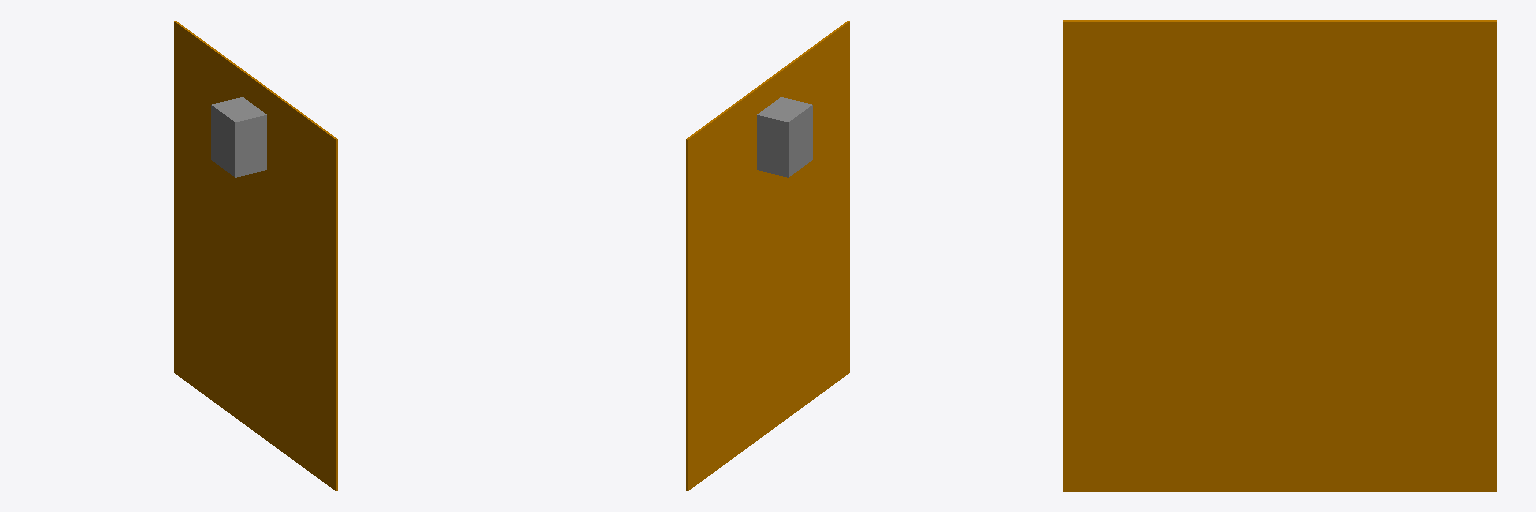
robot.urdf — DRCTestbedButton_fixed:
<?xml version="1.0"?>
<robot name="DRCTestbedButton_fixed"
       xmlns:xi="http://www.w3.org/2001/XInclude"
       >
  <gazebo>
    <static>false</static>
  </gazebo>
  <link name="DRC-TESTBED-BUTTON-BODYSET9_link">
    <visual>
      <origin xyz="0 0 0" rpy="0 -0 0"/>
      <geometry>
        <mesh filename="model://DRCTestbedButton/meshes/DRC-TESTBED-BUTTON-BODYSET9_link_mesh.dae" scale="1 1 1" />
      </geometry>
    </visual>
    <collision>
      <origin xyz="0 0 0" rpy="0 -0 0"/>
      <geometry>
        <mesh filename="model://DRCTestbedButton/meshes/DRC-TESTBED-BUTTON-BODYSET9_link_mesh.dae" scale="1 1 1" />
      </geometry>
    </collision>
    <inertial>
      <mass value="0.001" />
      <origin xyz="0 0 0" rpy="0 -0 0"/>
      <inertia ixx="1e-03" ixy="0" ixz="0" iyy="1e-03" iyz="0" izz="1e-03"/>
    </inertial>
  </link>
  <gazebo reference="DRC-TESTBED-BUTTON-BODYSET9_link">
    <mu1>0.9</mu1>
    <mu2>0.9</mu2>
  </gazebo>
  <link name="DRC-TESTBED-BUTTON-BODYSET92_link">
    <visual>
      <origin xyz="-0.13 0.1 1.33" rpy="0 -0 0"/>
      <geometry>
        <mesh filename="model://DRCTestbedButton/meshes/DRC-TESTBED-BUTTON-BODYSET92_link_mesh.dae" scale="1 1 1" />
      </geometry>
    </visual>
    <collision>
      <origin xyz="-0.13 0.1 1.33" rpy="0 -0 0"/>
      <geometry>
        <mesh filename="model://DRCTestbedButton/meshes/DRC-TESTBED-BUTTON-BODYSET92_link_mesh.dae" scale="1 1 1" />
      </geometry>
    </collision>
    <inertial>
      <mass value="0.001" />
      <origin xyz="0 0 0" rpy="0 -0 0"/>
      <inertia ixx="1e-03" ixy="0" ixz="0" iyy="1e-03" iyz="0" izz="1e-03"/>
    </inertial>
  </link>
  <gazebo reference="DRC-TESTBED-BUTTON-BODYSET92_link">
    <mu1>0.9</mu1>
    <mu2>0.9</mu2>
  </gazebo>
  <joint name="HINGE-JOINT" type="revolute">
    <parent link="DRC-TESTBED-BUTTON-BODYSET9_link"/>
    <child  link="DRC-TESTBED-BUTTON-BODYSET92_link"/>
    <origin xyz="-0.13 0.1 1.33" rpy="0 -0 0 "/>
    <axis   xyz="0 0 1"/>
    <limit lower="-1.5708" upper="1.5708" effort="100" velocity="0.5" />
    <dynamics damping="0.2" friction="0" />
  </joint>
  <transmission type="pr2_mechanism_model/SimpleTransmission" name="HINGE-JOINT_trans" >
    <actuator name="HINGE-JOINT_motor" />
    <joint name="HINGE-JOINT" />
    <mechanicalReduction>1</mechanicalReduction>
  </transmission>
  <gazebo reference="HINGE-JOINT">
    <cfmDamping>0.4</cfmDamping>
  </gazebo>
  <!-- Used for fixing robot to Gazebo 'base_link' -->
  <link name="world"/>
  <joint name="fixed" type="fixed">
    <parent link="world"/>
    <child link="DRC-TESTBED-BUTTON-BODYSET9_link"/>
  </joint>
</robot>

--- Facts derived from the render (not from the file) ---
3 views of the same robot in one strip: view 1: azimuth 30°, elevation 25°; view 2: azimuth 150°, elevation 25°; view 3: azimuth 270°, elevation 25° (orthographic).
Model DRCTestbedButton_fixed with 3 links and 2 joints (1 revolute, 1 fixed), rooted at world, posed all joints at 0.
Visible links, largest first — view 1: DRC-TESTBED-BUTTON-BODYSET9_link, DRC-TESTBED-BUTTON-BODYSET92_link; view 2: DRC-TESTBED-BUTTON-BODYSET9_link, DRC-TESTBED-BUTTON-BODYSET92_link; view 3: DRC-TESTBED-BUTTON-BODYSET9_link.
Boxes of the visible links, box(x1,y1,x2,y2) form: DRC-TESTBED-BUTTON-BODYSET9_link: box(174, 21, 337, 490); DRC-TESTBED-BUTTON-BODYSET92_link: box(211, 104, 239, 177); DRC-TESTBED-BUTTON-BODYSET9_link: box(686, 21, 849, 490); DRC-TESTBED-BUTTON-BODYSET92_link: box(784, 104, 812, 177); DRC-TESTBED-BUTTON-BODYSET9_link: box(1063, 20, 1496, 491).
Size in the robot's own frame: 0.16 by 1.33 by 1.59 metres.
Meshes: 2 distinct files referenced, 2 mesh visuals loaded (2 Collada DAE).